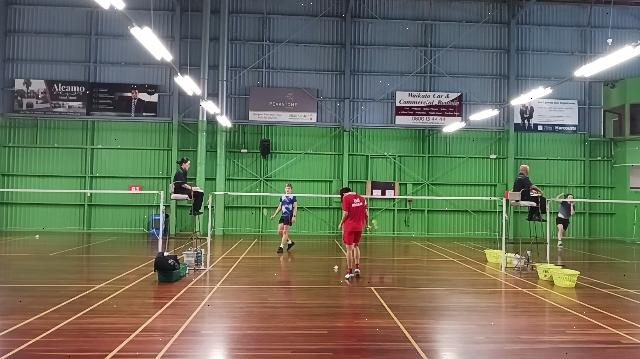Shuttlecock: (330, 264, 340, 272)
